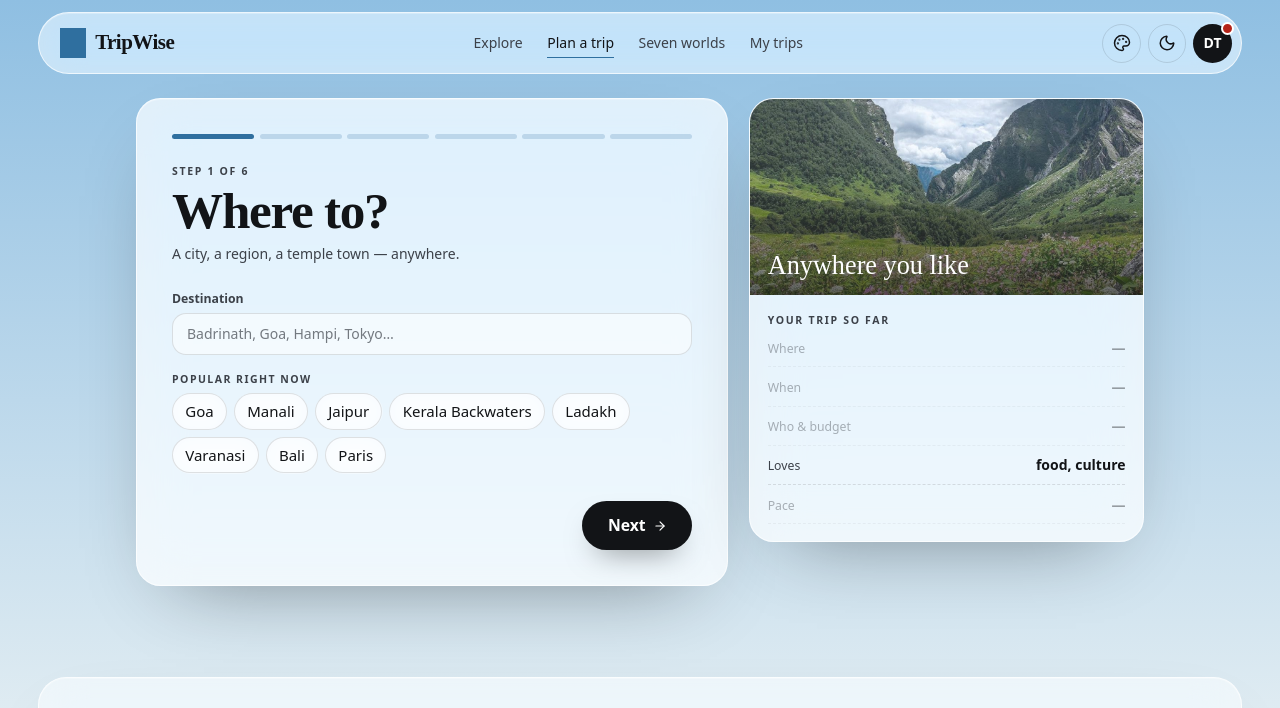
PlannerWizard › asks for a destination before moving on
The width and height of the screenshot is (1280, 708).
Expected: the field labelled "Destination" is shown, [172, 313, 692, 355]
Click the button "Next": (637, 526) [582, 501, 692, 550]
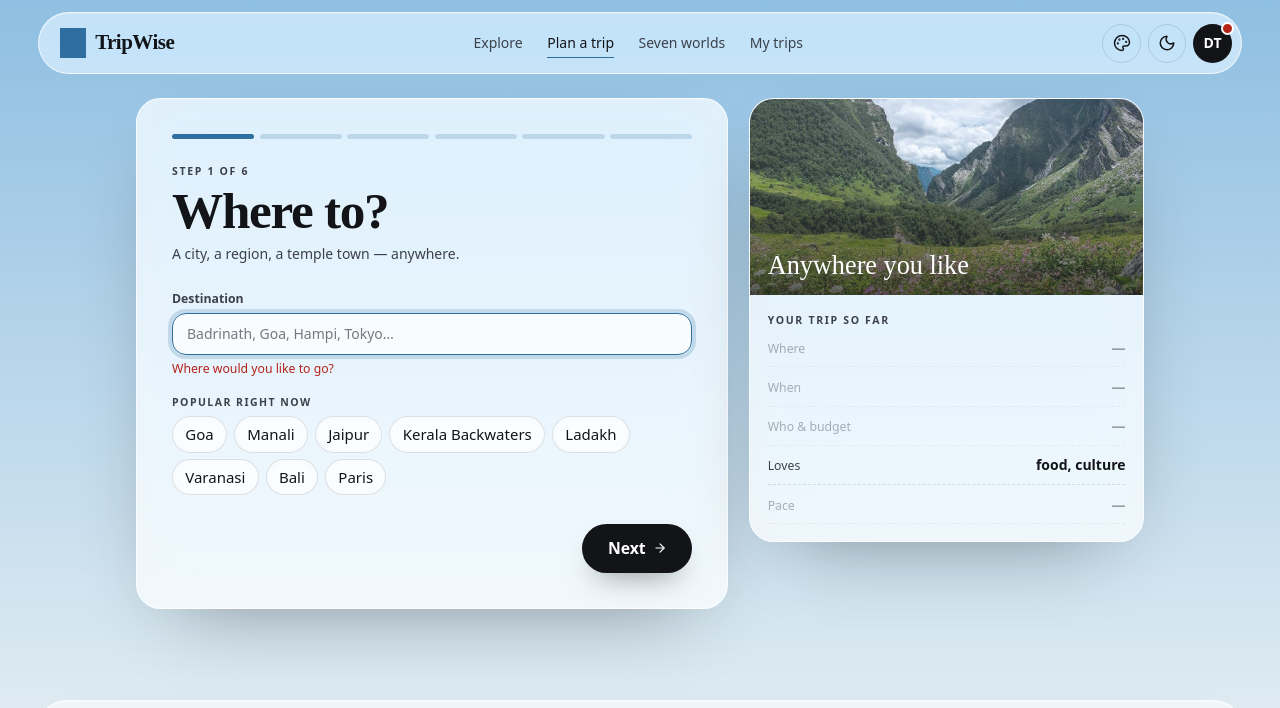
Expected: the text "Where would you like to go?" is shown, [172, 360, 334, 377]
